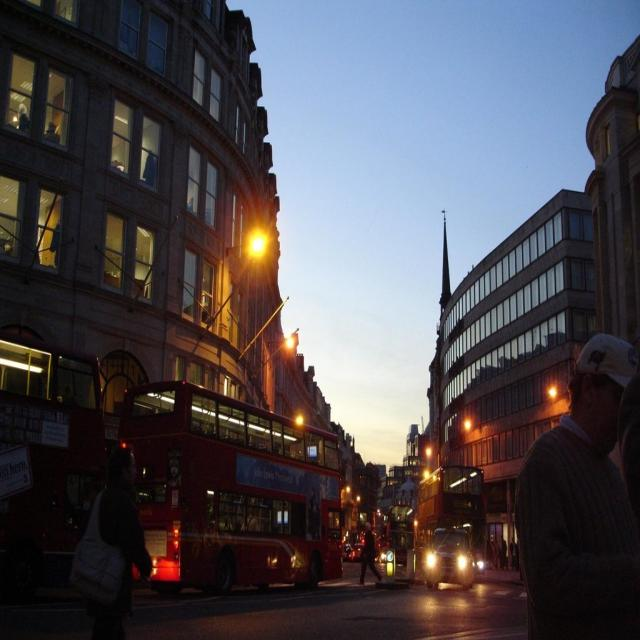Bus: (121, 363, 354, 604), (4, 305, 115, 600), (397, 455, 494, 564)
People: (517, 324, 639, 640), (86, 439, 149, 611), (355, 510, 385, 581)
car: (421, 519, 487, 597)
